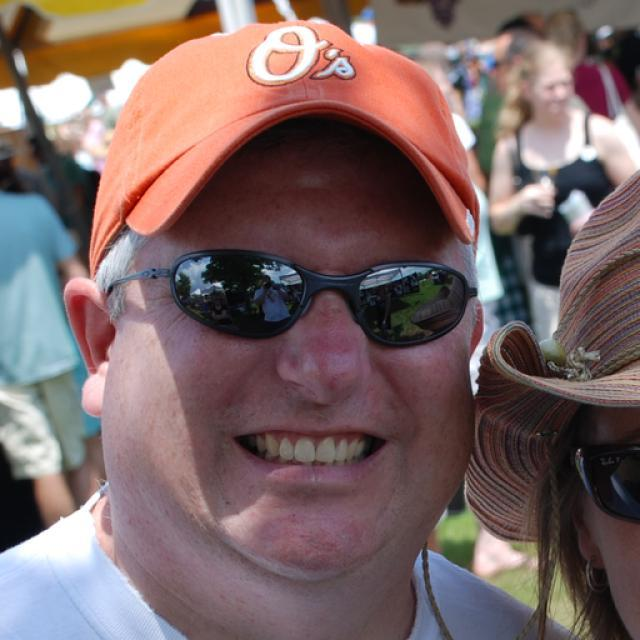disgust: (126, 104, 486, 582)
